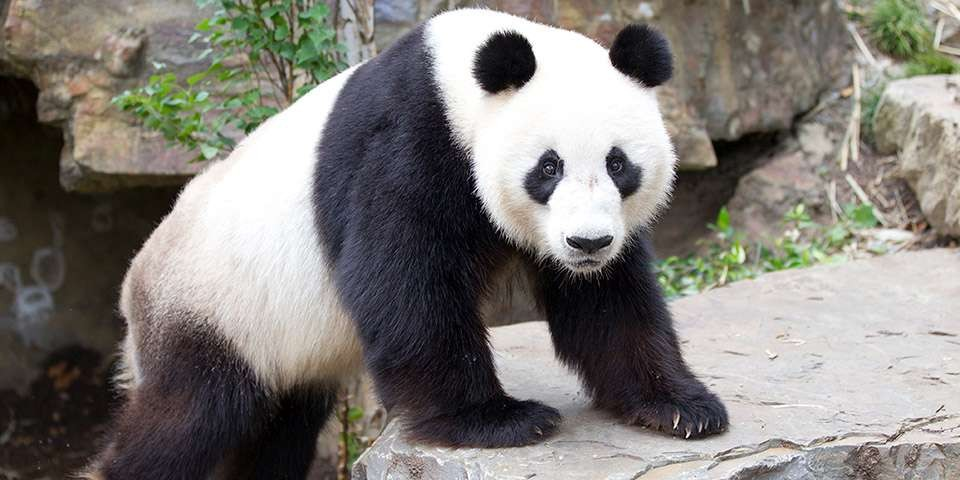panda: (80, 9, 744, 480)
